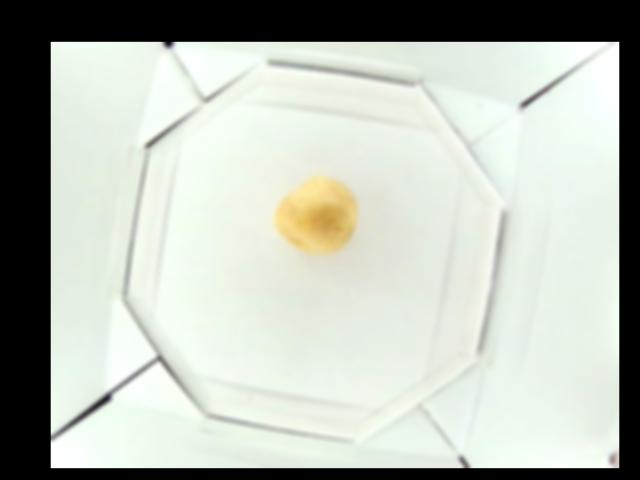Potato: (274, 174, 355, 262)
